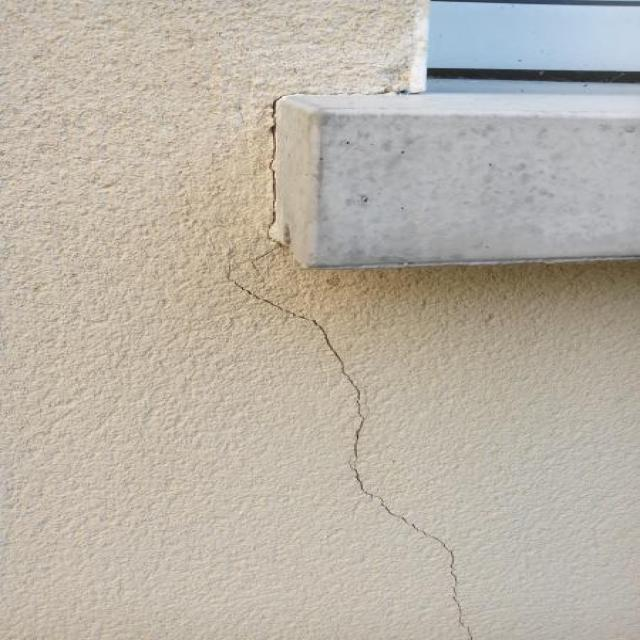crack: (229, 242, 476, 639), (263, 86, 421, 237)
